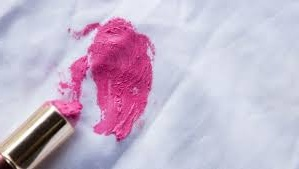lipstick: (62, 22, 162, 137)
